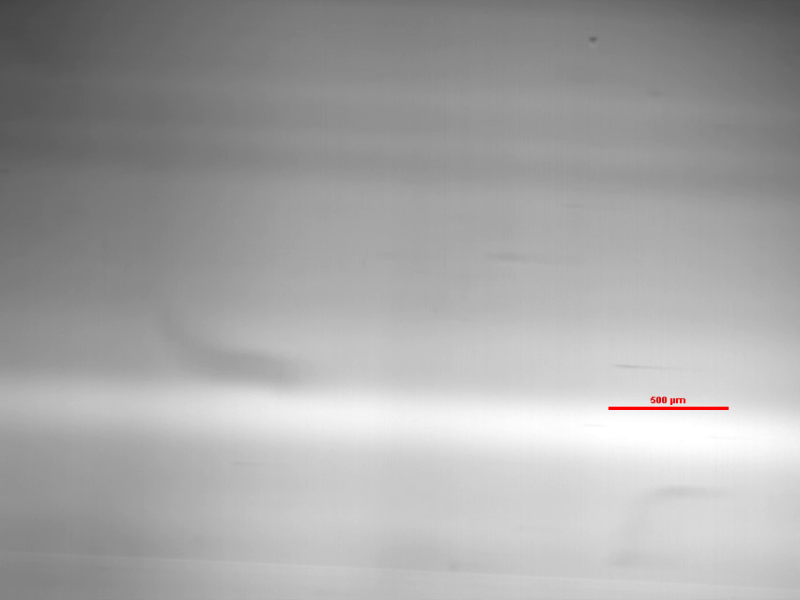fiber: (155, 286, 307, 389), (631, 479, 724, 506), (486, 246, 582, 268), (613, 359, 708, 376)
size: (608, 395, 729, 416)
